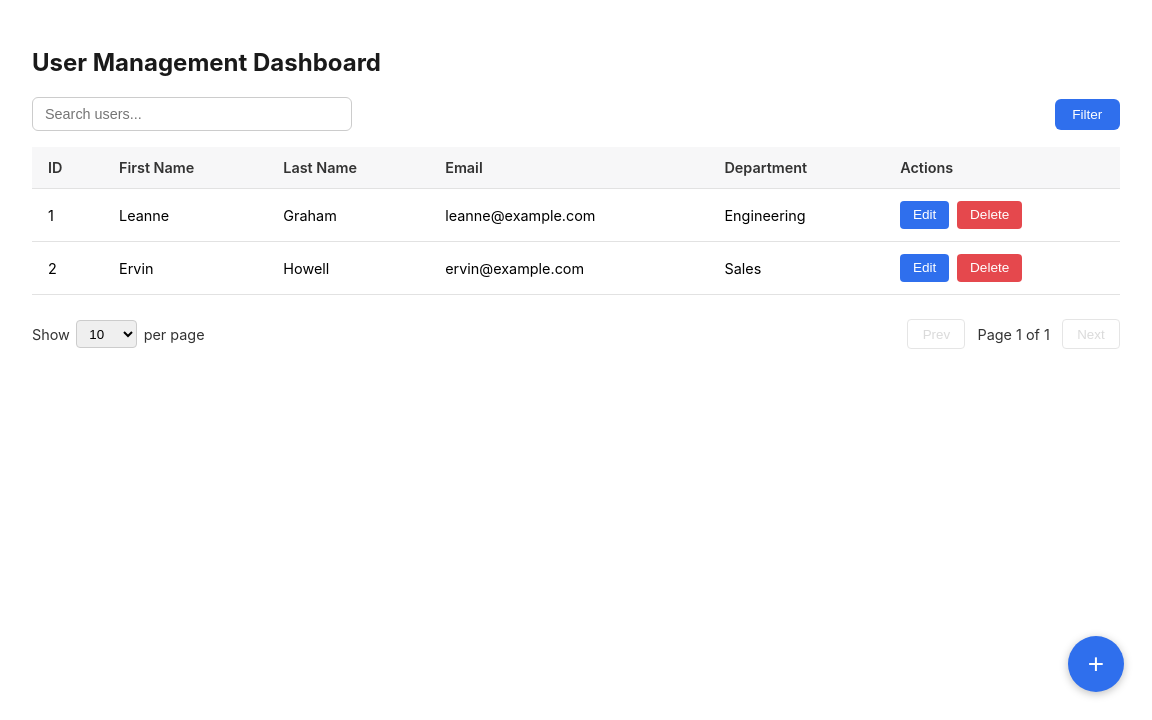
Test: App - Filter › opens the filter popup when the Filter button is clicked
What coordinates should you click on to do the following:
click the button "Filter"
I would click on:
 (1087, 114)
Its box is [1055,99,1120,130].
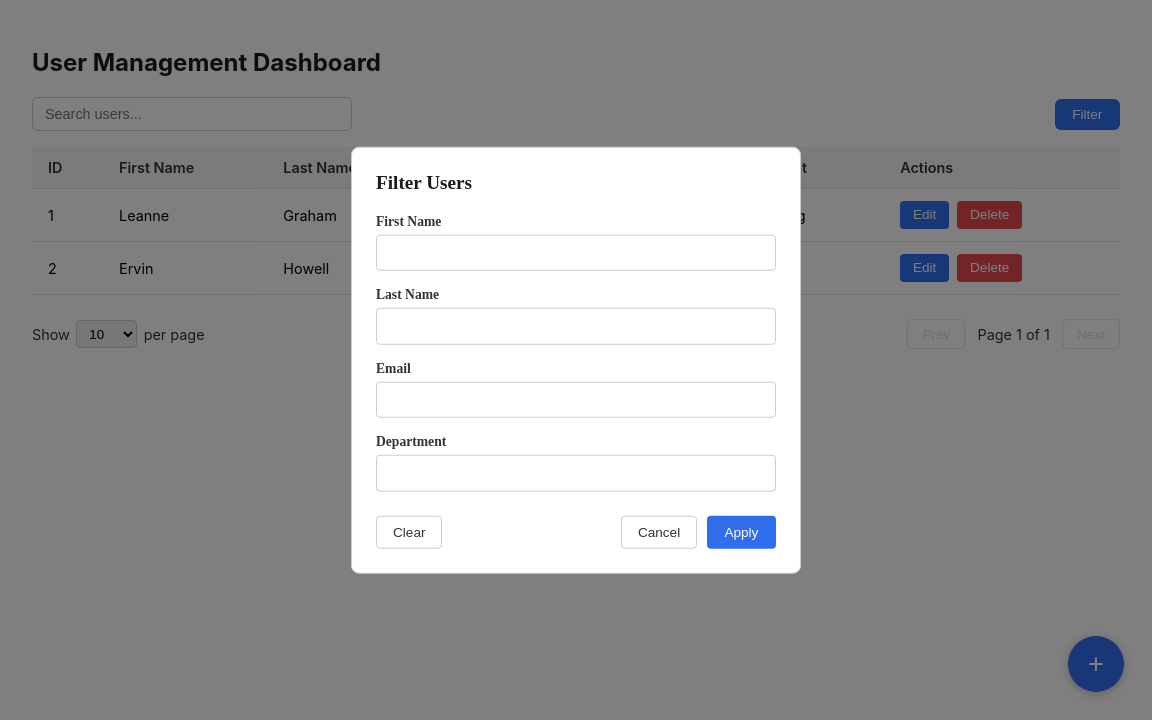
Check: the heading "Filter Users" is shown, box [376,172,472,193]
